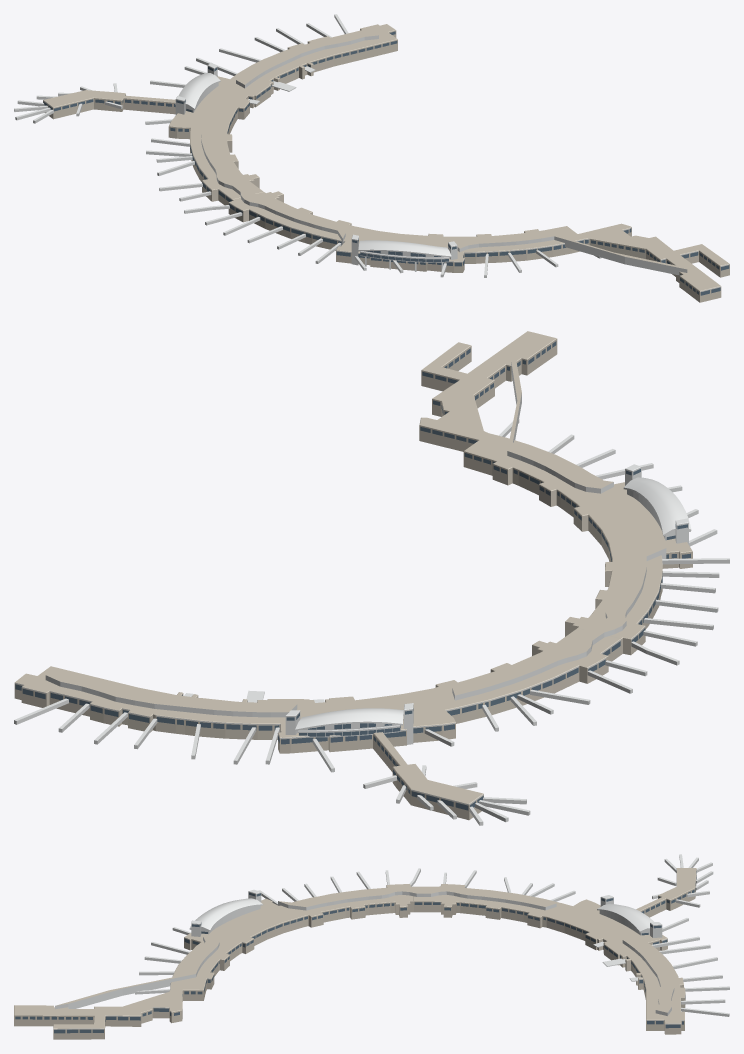
The model's file is dal-dfw-terminal-b.glb.
3 renders of one model, top to bottom at view 1: azimuth 30°, elevation 25°; view 2: azimuth 150°, elevation 25°; view 3: azimuth 270°, elevation 25°, orthographic. The views are drawn at different scales.
Visible parts, largest first — view 1: DFW Airport Terminal B; view 2: DFW Airport Terminal B; view 3: DFW Airport Terminal B.
Part boxes in pixels (bbox=[...]): DFW Airport Terminal B: bbox=[14, 14, 729, 302]; DFW Airport Terminal B: bbox=[14, 331, 729, 825]; DFW Airport Terminal B: bbox=[14, 854, 729, 1039].
Bounding box in the file's own units: 446 × 28.6 × 763.
